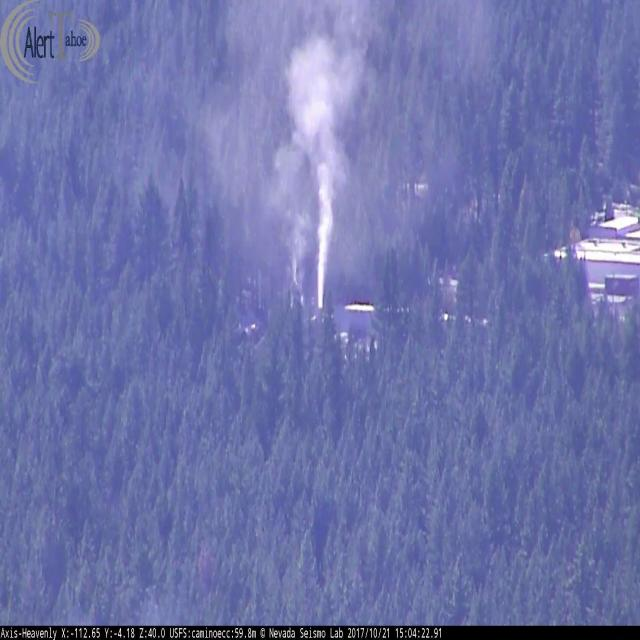smoke: (148, 0, 512, 347)
